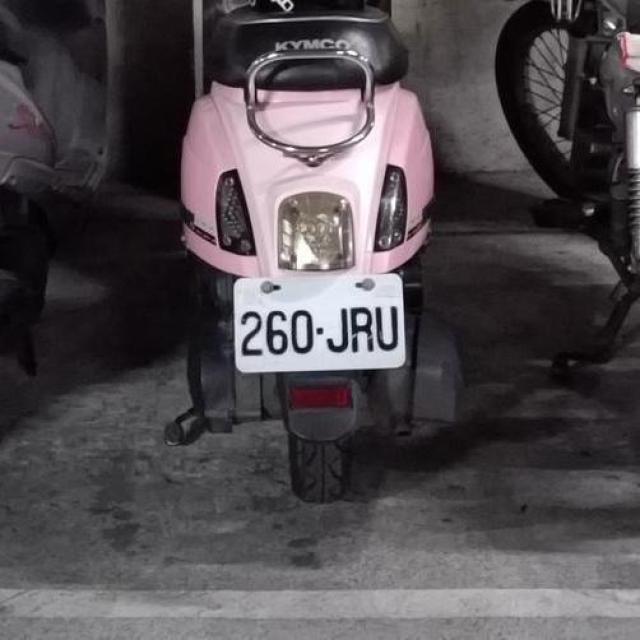W: (231, 269, 408, 374)
